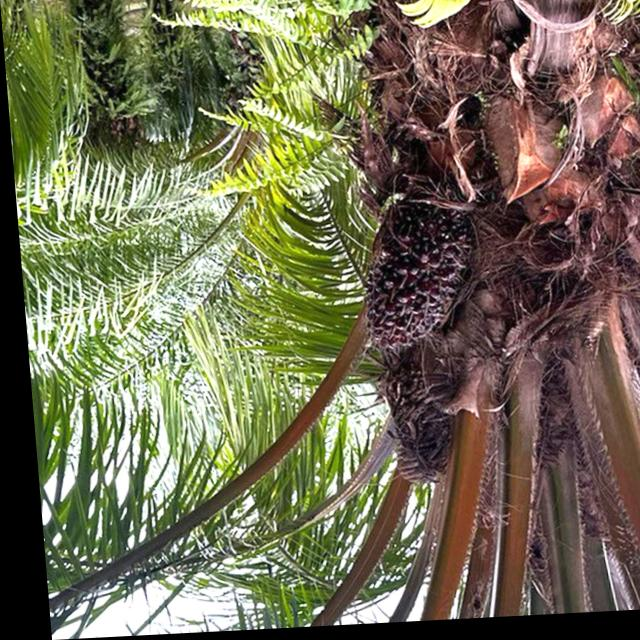ripe: (348, 202, 465, 366)
